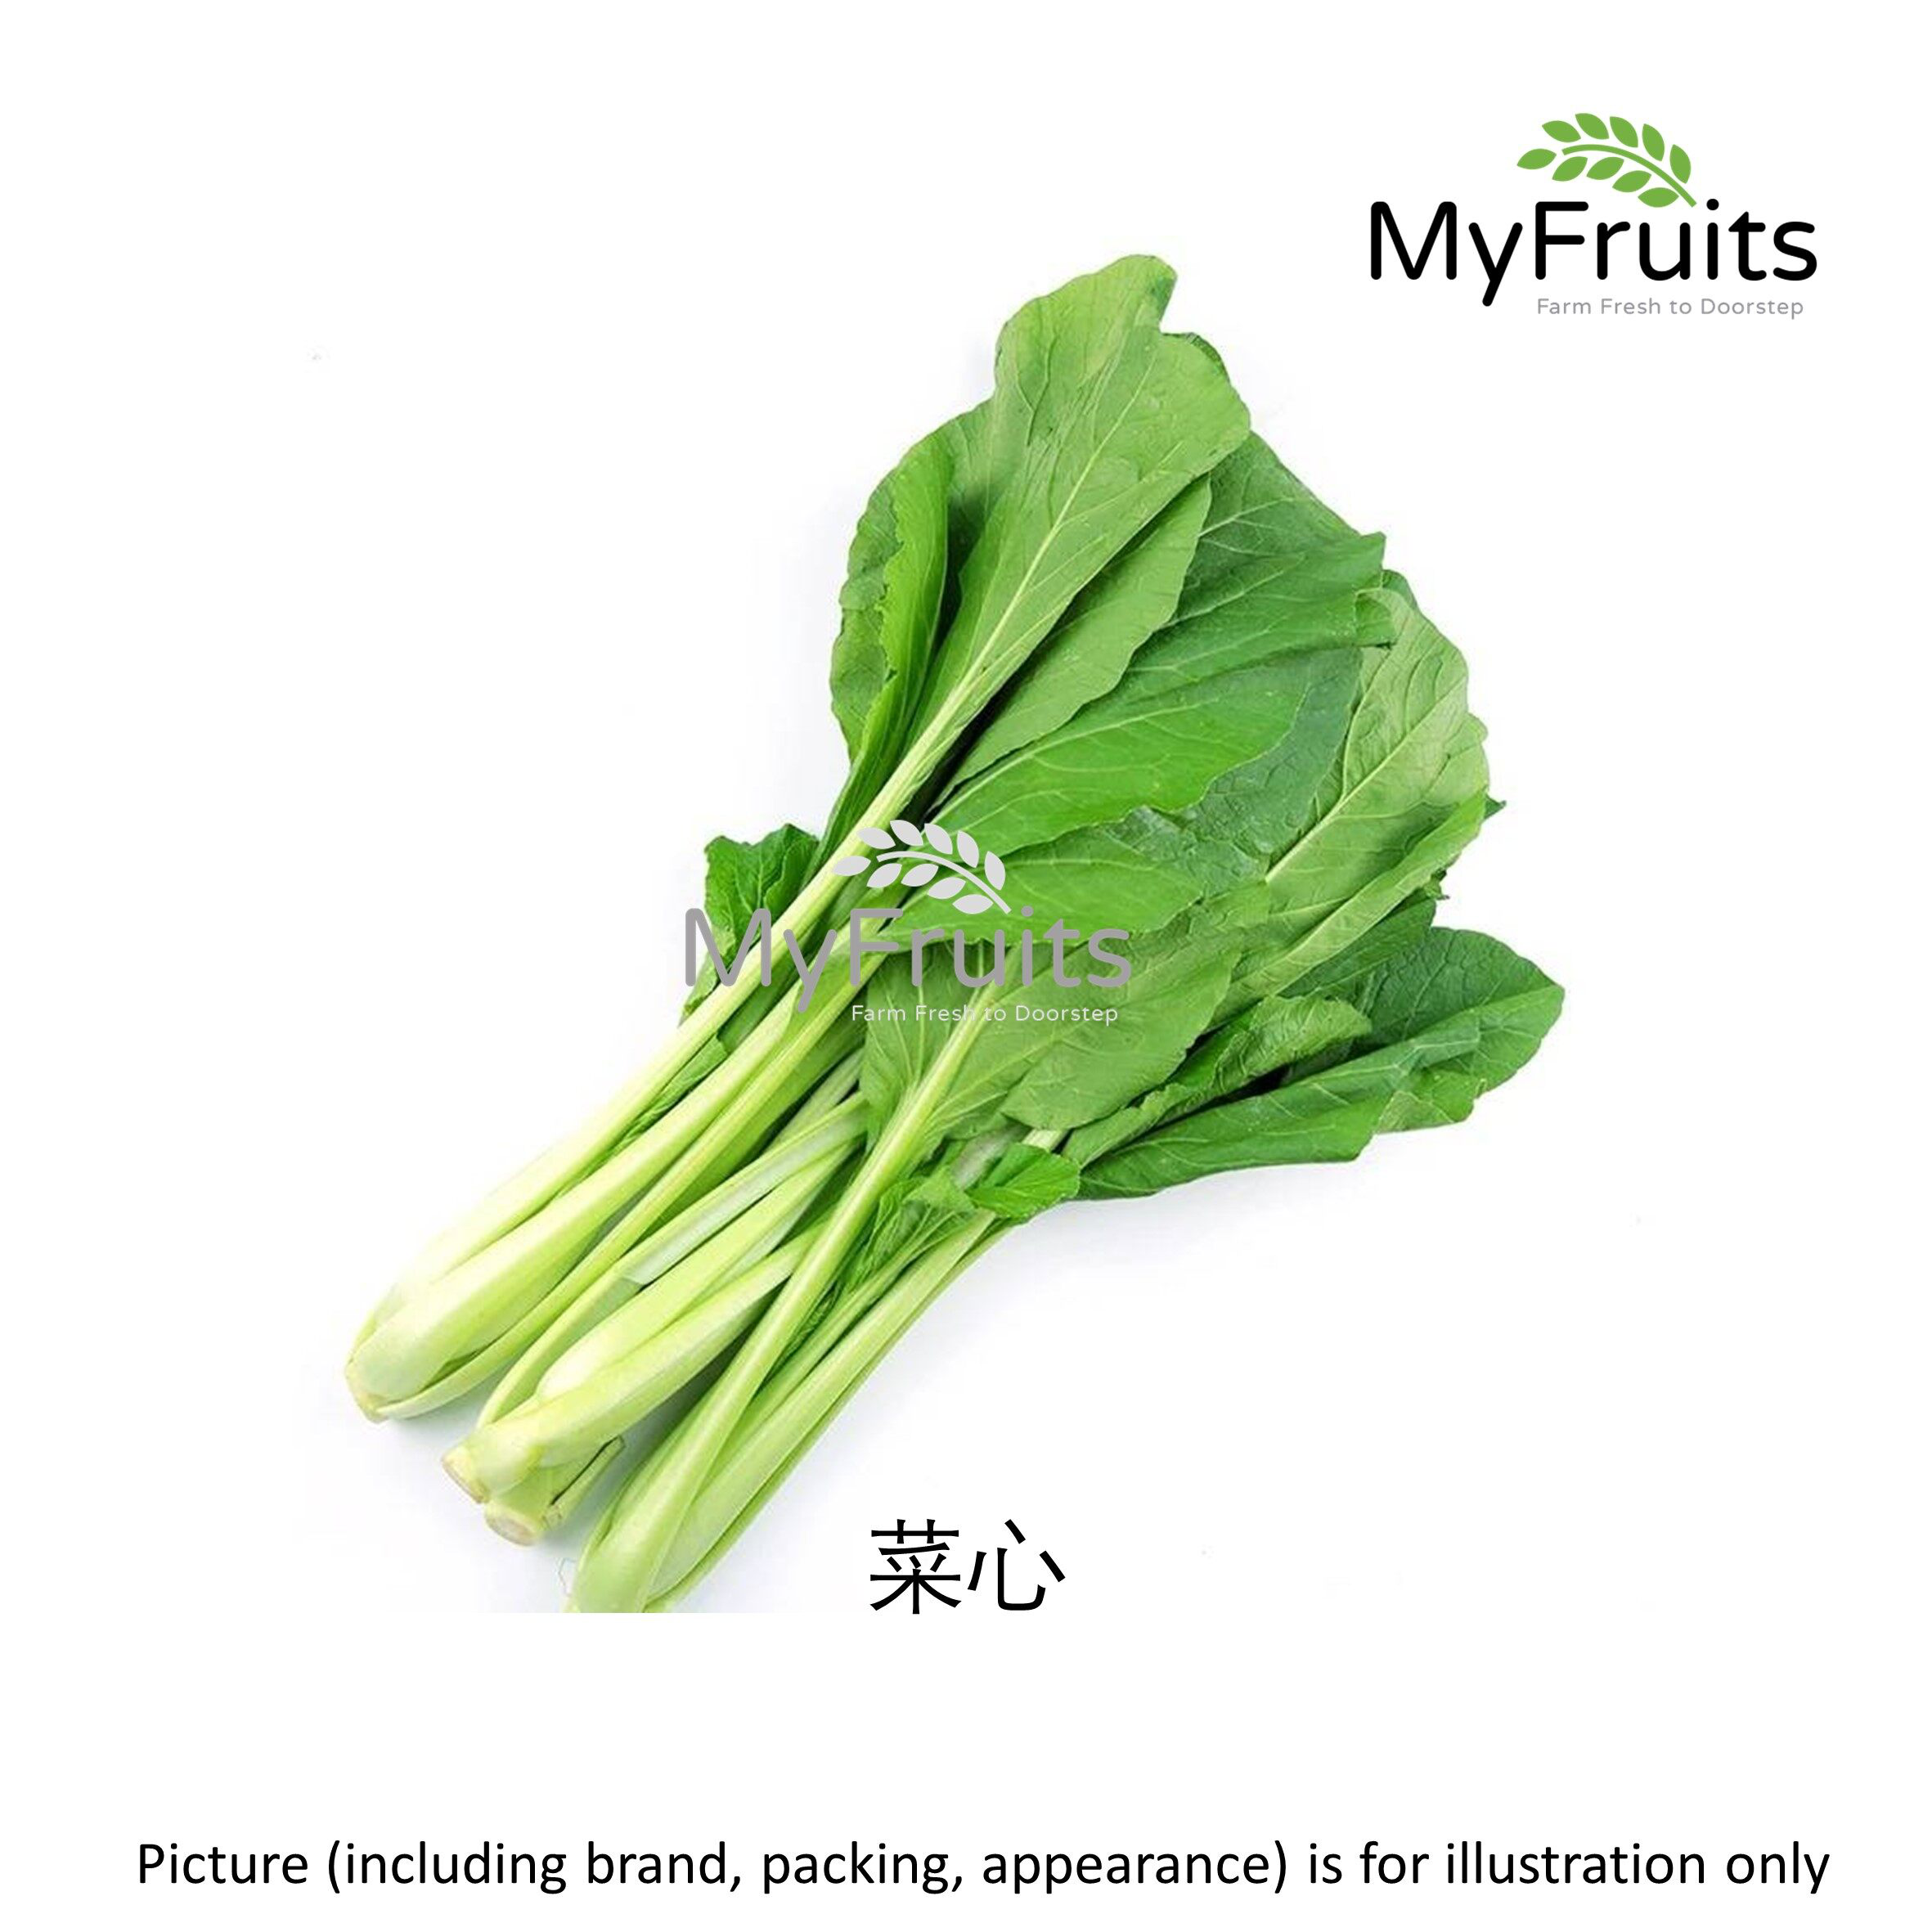Sawi: (449, 329, 1631, 1530)
